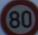Speed Limit -80-: (0, 0, 37, 34)
